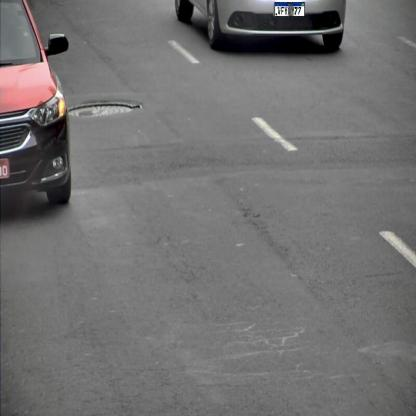PlacaM: (274, 2, 304, 17)
